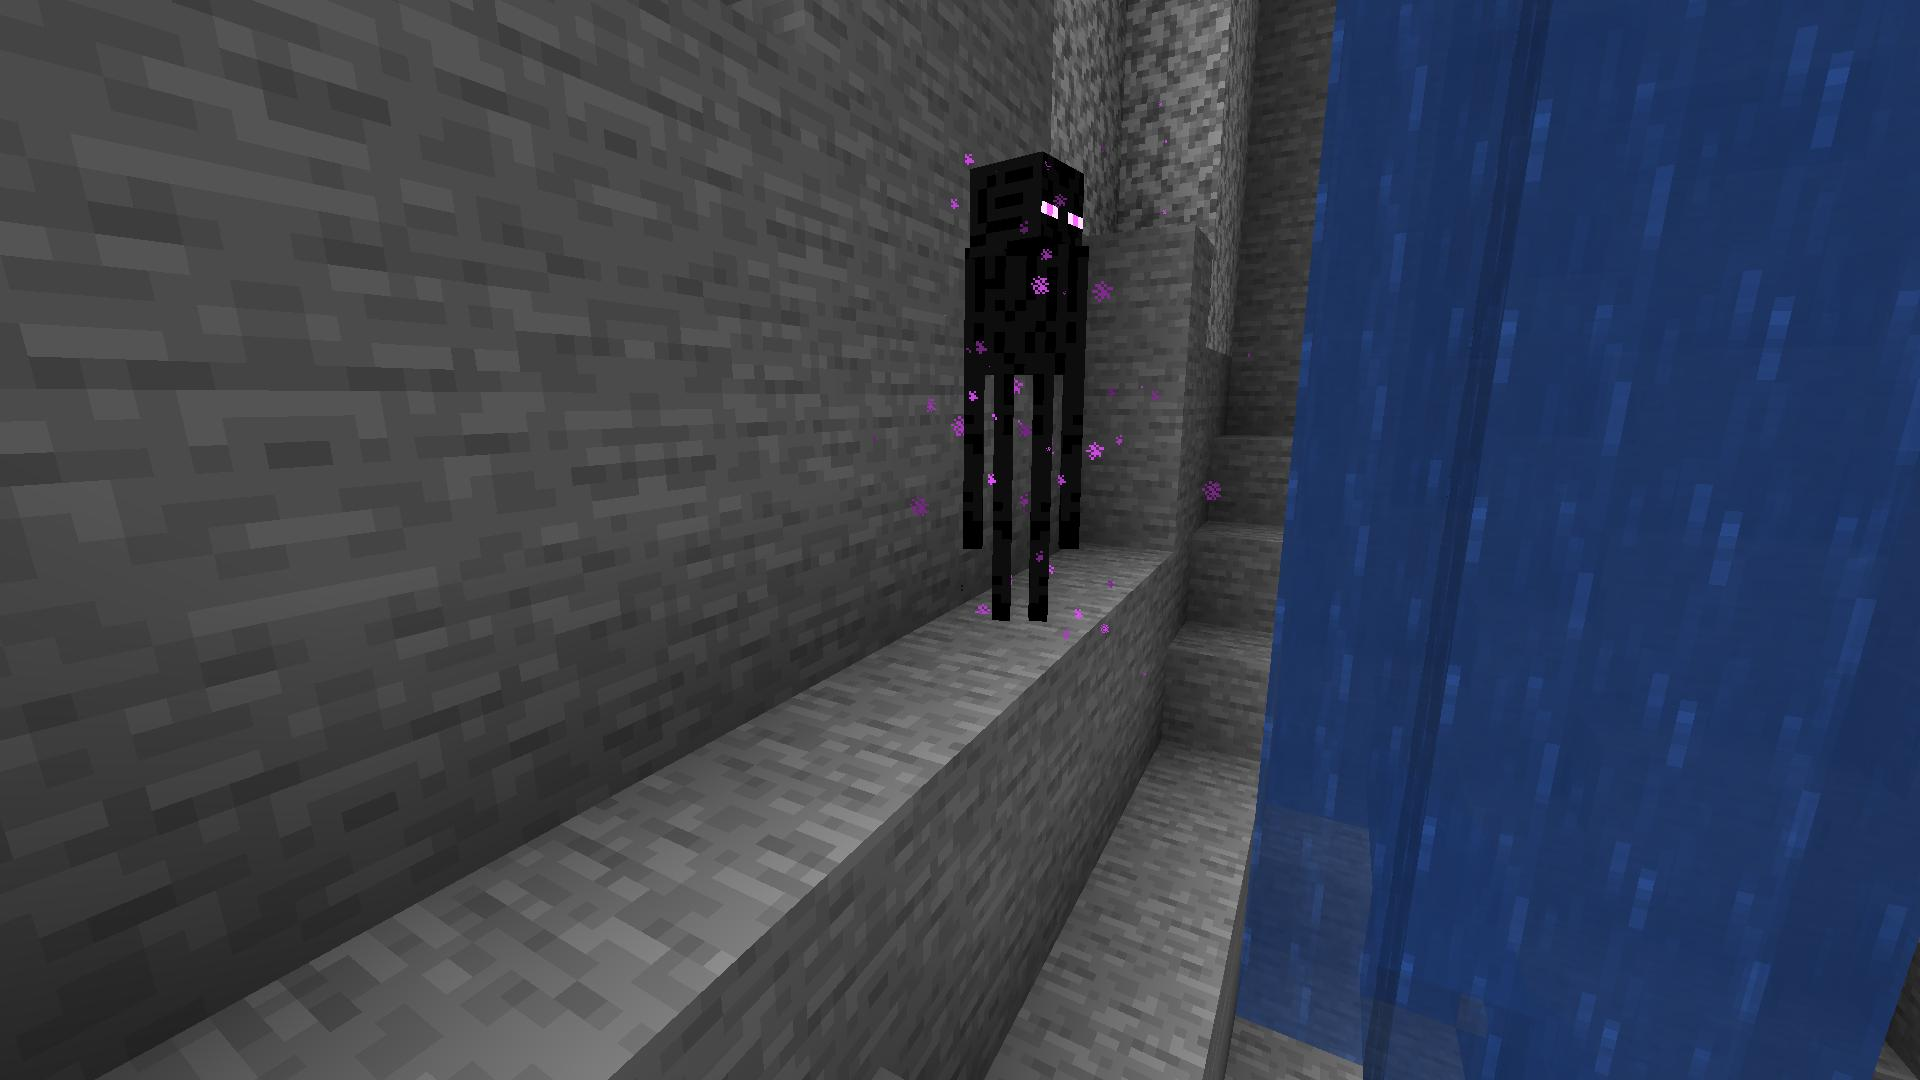enderman: (952, 131, 1102, 646)
